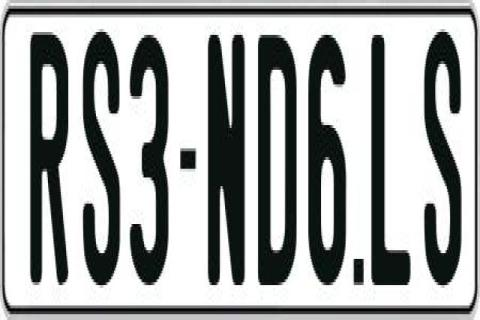0: (126, 29, 167, 297), (306, 26, 349, 276)
D: (258, 32, 301, 282)
L: (368, 29, 410, 288)
N: (206, 29, 249, 294)
R: (30, 35, 74, 288)
S: (422, 26, 464, 294), (83, 32, 123, 294)
